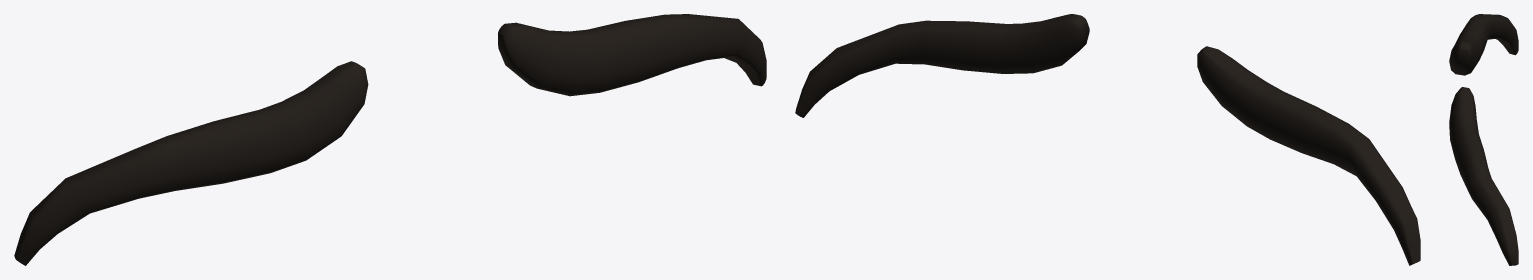
File: Eyebrows_22_01.fbx
3 renders of one model, left to right at view 1: azimuth 30°, elevation 25°; view 2: azimuth 150°, elevation 25°; view 3: azimuth 270°, elevation 25°, orthographic. The views are drawn at different scales.
Visible parts, largest first — view 1: Eyebrows_22_01; view 2: Eyebrows_22_01; view 3: Eyebrows_22_01.
Boxes of the visible parts, x1=… form: Eyebrows_22_01: x1=14, y1=14, x2=766, y2=265; Eyebrows_22_01: x1=795, y1=14, x2=1420, y2=265; Eyebrows_22_01: x1=1449, y1=14, x2=1518, y2=265.
Bounding box in the file's own units: 18.69 × 3.84 × 2.54.
